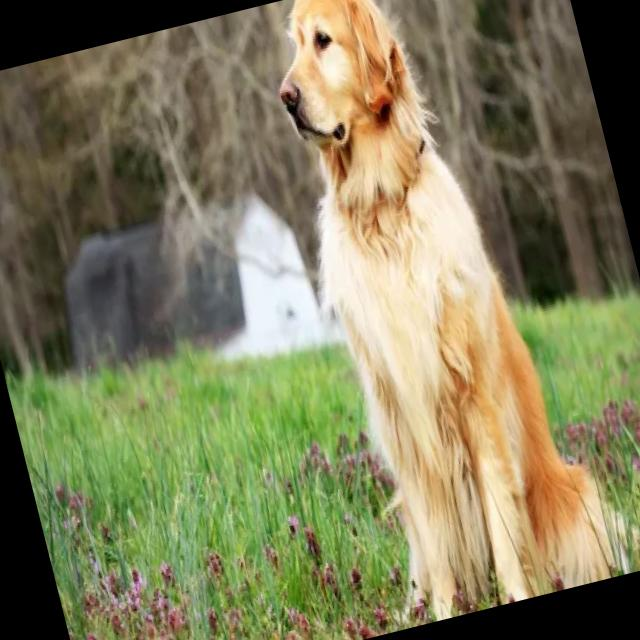Dog: (256, 0, 535, 627)
